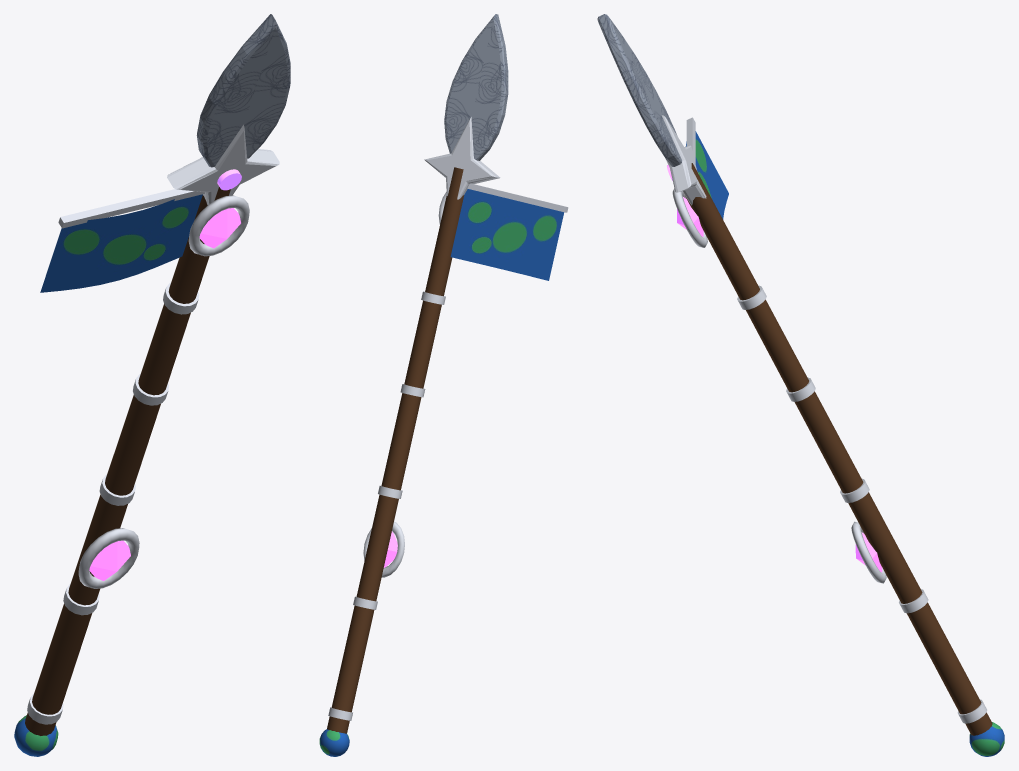
File: hand_eqsa2.glb
The picture shows the model from 3 angles, left to right: view 1: azimuth 30°, elevation 25°; view 2: azimuth 150°, elevation 25°; view 3: azimuth 270°, elevation 25°; orthographic projection. The views are drawn at different scales.
Bounding box in the file's own units: 1.71 × 7.08 × 3.53.
Materials: 7 (3 with a texture image).
